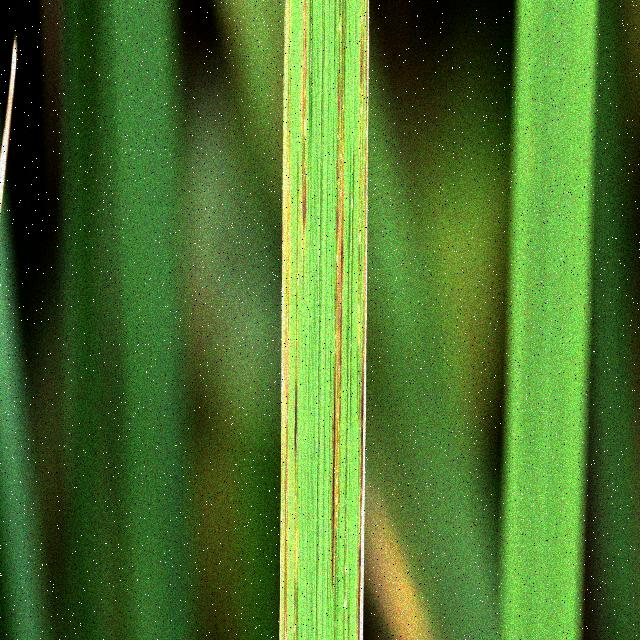BLS: (331, 2, 346, 640), (356, 1, 369, 640), (279, 1, 291, 640), (342, 152, 350, 640), (294, 147, 299, 640), (301, 1, 307, 300), (350, 149, 355, 398), (308, 1, 313, 136), (347, 595, 350, 640)
